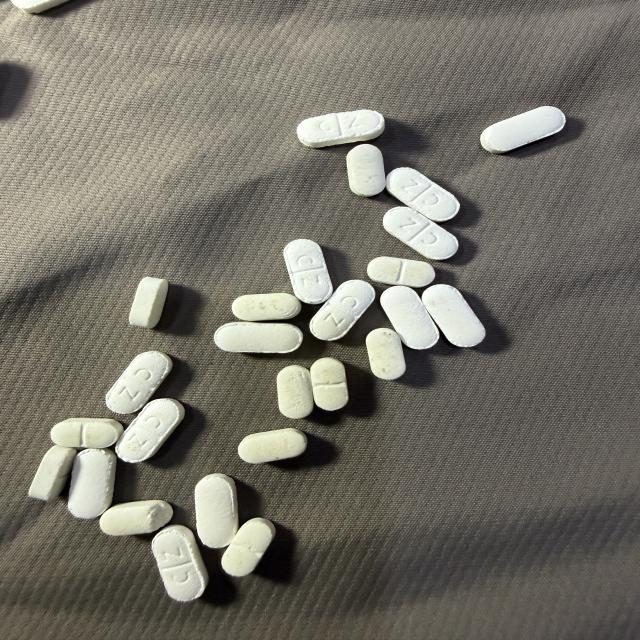pill: (116, 399, 184, 462), (152, 525, 208, 601), (106, 351, 172, 413), (383, 207, 458, 260), (481, 106, 565, 153), (310, 280, 375, 340), (422, 285, 485, 346), (387, 168, 459, 221), (381, 286, 439, 349), (68, 449, 116, 518), (297, 110, 384, 147), (195, 474, 238, 548), (284, 239, 332, 304), (222, 518, 275, 576), (214, 322, 303, 353), (29, 445, 77, 500), (100, 500, 172, 535), (238, 428, 307, 463), (51, 418, 123, 448), (347, 144, 386, 196), (367, 257, 434, 287), (129, 277, 168, 328), (366, 328, 405, 379), (310, 358, 348, 410), (232, 293, 301, 321), (277, 366, 313, 418), (12, 0, 66, 13)
